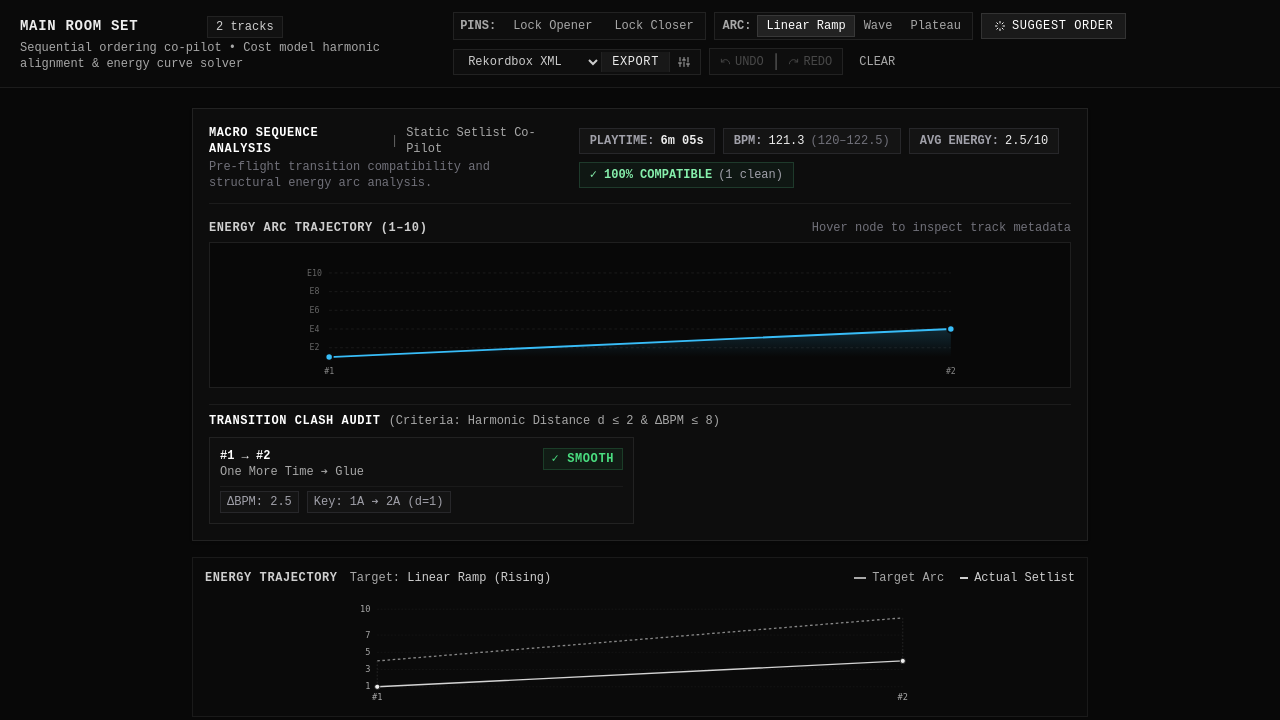
Test: Export Safety & Structured Result Regression Tests › displays error in UI when destination file already exists and overwrite is false
// Open export options
Click the button named "Export options": x=684, y=62 [669,52,698,72]
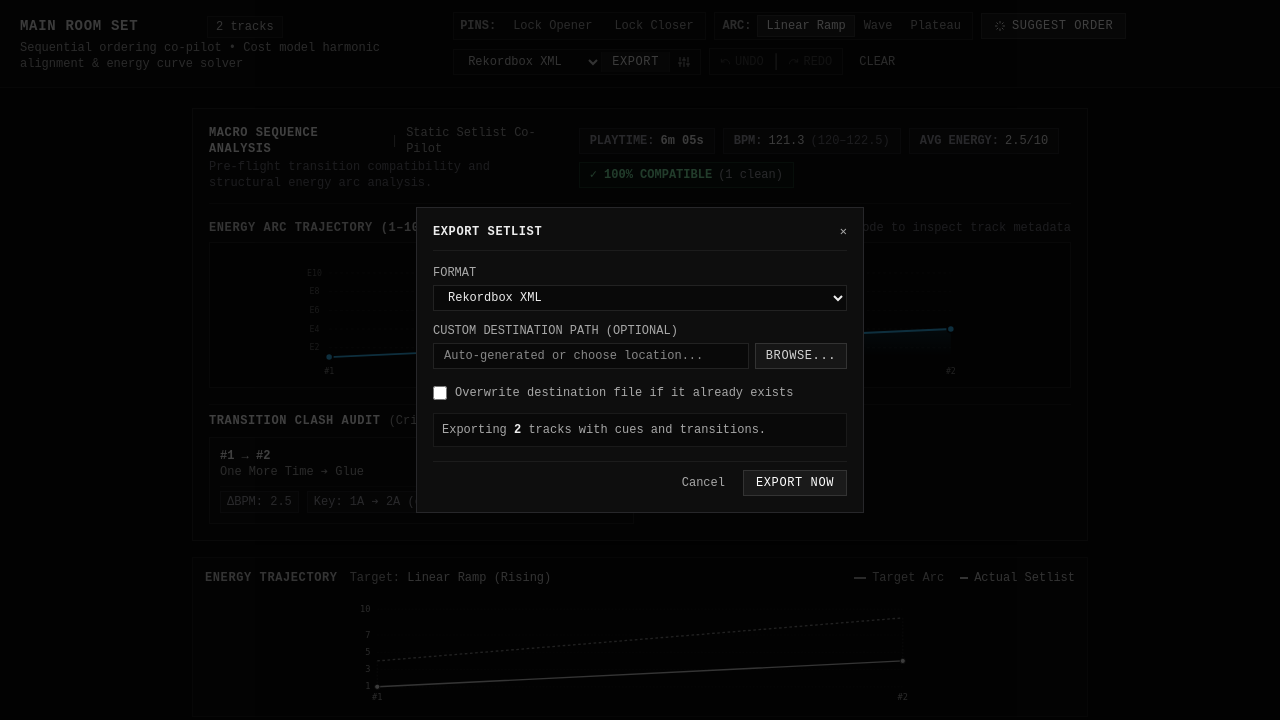
// Click Confirm export without overwrite
Click the button with aria-label "confirm export": x=795, y=483 [743,470,847,496]
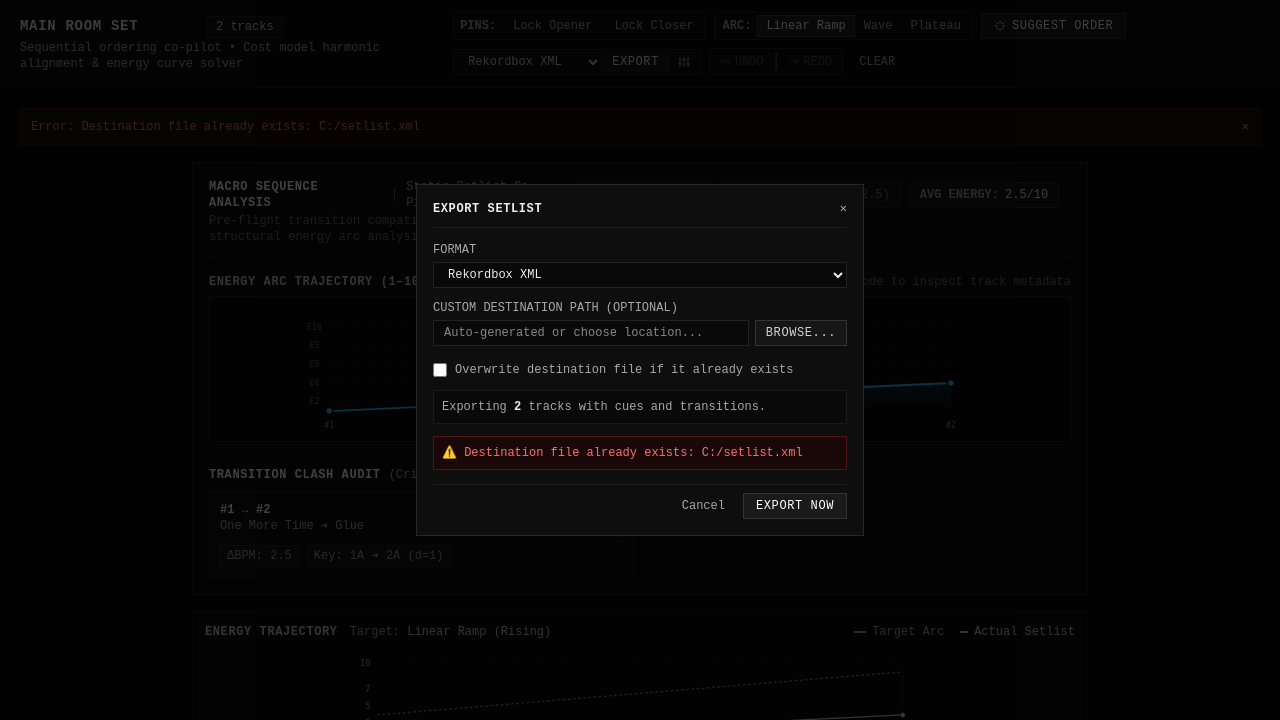
Expected: the text "⚠️ Destination file already exists: C:/setlist.xml" is shown, [433,436,847,470]
